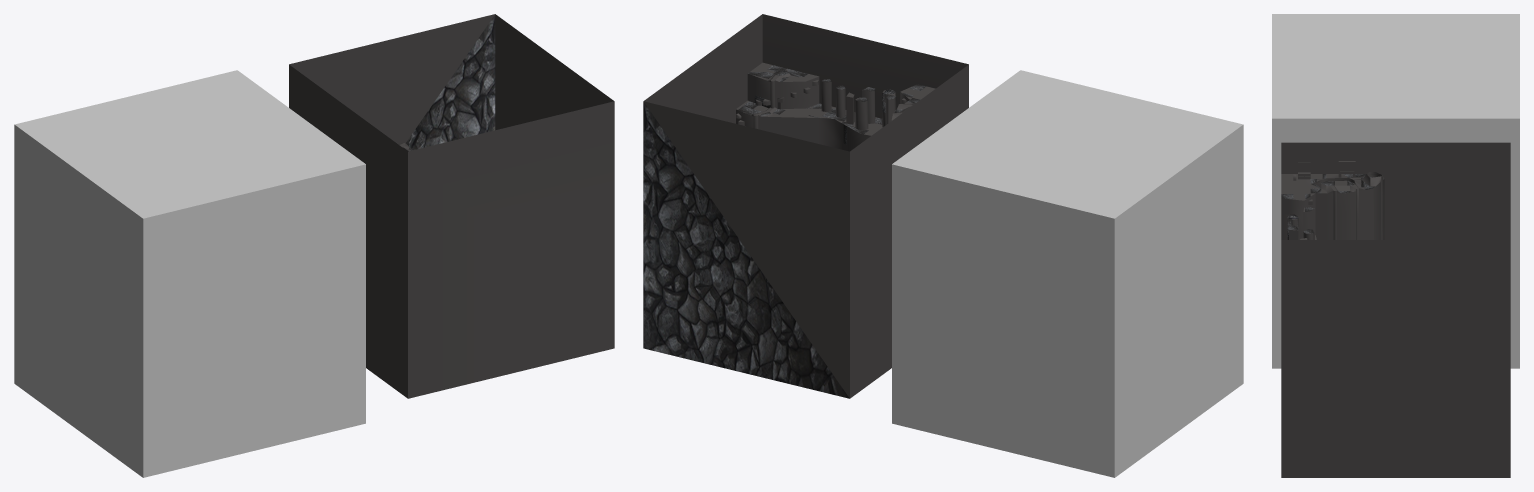
The model's file is TRANSPORTSHIP_REN_AIBOT_TDfixout.fbx.
3 renders of one model, left to right at view 1: azimuth 30°, elevation 25°; view 2: azimuth 150°, elevation 25°; view 3: azimuth 270°, elevation 25°, orthographic. The views are drawn at different scales.
Visible parts, largest first — view 1: Sky1100_DemoSkyWorldModel0, PhysicsBSP; view 2: Sky1100_DemoSkyWorldModel0, PhysicsBSP; view 3: PhysicsBSP, Sky1100_DemoSkyWorldModel0.
Boxes of the visible parts, x1,y1,x2,y2 form: Sky1100_DemoSkyWorldModel0: [14, 70, 365, 477]; PhysicsBSP: [289, 14, 614, 398]; Sky1100_DemoSkyWorldModel0: [892, 70, 1243, 477]; PhysicsBSP: [643, 14, 968, 398]; PhysicsBSP: [1281, 142, 1510, 477]; Sky1100_DemoSkyWorldModel0: [1272, 14, 1519, 368].
Size of the model in its own units: 29520 by 15360 by 13824.
13 materials, 1 textured.
